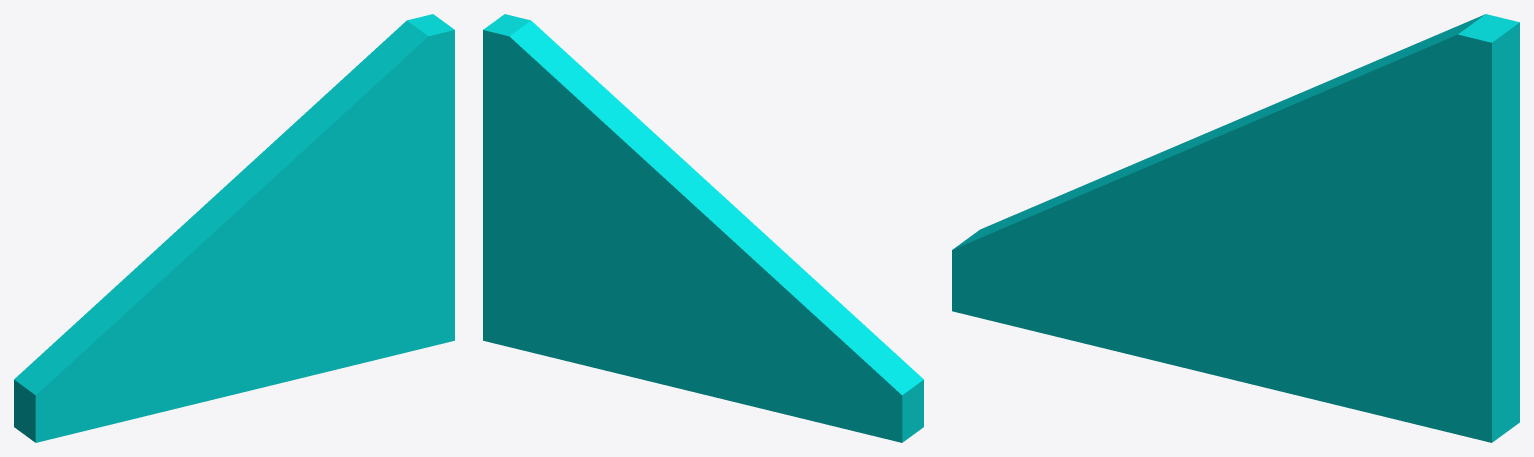
The model's file is SM_Bld_Stairwell_Wall_01_Collision.fbx.
3 renders of one model, left to right at view 1: azimuth 30°, elevation 25°; view 2: azimuth 150°, elevation 25°; view 3: azimuth 330°, elevation 25°, orthographic. The views are drawn at different scales.
Visible parts, largest first — view 1: SM_Bld_Stairwell_Wall_01_Collision; view 2: SM_Bld_Stairwell_Wall_01_Collision; view 3: SM_Bld_Stairwell_Wall_01_Collision.
Part boxes in pixels (x1,y1,x2,y2): SM_Bld_Stairwell_Wall_01_Collision: (14,14,454,442); SM_Bld_Stairwell_Wall_01_Collision: (483,14,923,442); SM_Bld_Stairwell_Wall_01_Collision: (952,14,1519,442).
Size of the model in its own units: 250 by 177 by 22.5.
